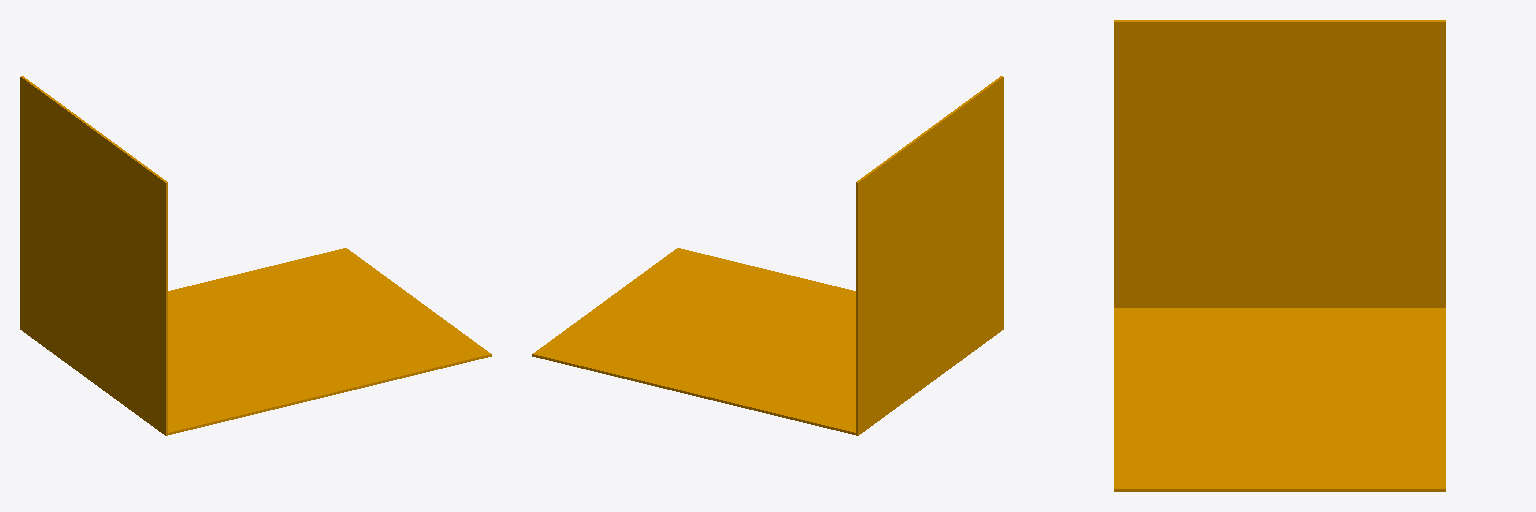
URDF robot description (tm5-900):
<?xml version="1.0" ?>
<!-- TM5-900 URDF Example -->
<robot name="tm5-900">

  <link name="platform">
    <visual>
      <geometry>
        <mesh filename="package://tm_description/meshes/tm5-900/visual/platform.obj"/>
      </geometry>
    </visual>
    <collision>
      <geometry>
        <mesh filename="package://tm_description/meshes/tm5-900/collision/platform.stl"/>
      </geometry>
    </collision>
  </link>

  <joint name="platform_to_link_0" type="fixed">
    <parent link="link_0"/>
    <child link="platform"/>
    <origin rpy="0.000000 -0.000000 0.000000" xyz="0.34222 0 -0.01"/>
  </joint>

  <link name="link_0">
    <visual>
      <geometry>
        <mesh filename="package://tm_description/meshes/tm5-900/visual/tm5-base.obj"/>
      </geometry>
    </visual>
    <collision>
      <geometry>
        <mesh filename="package://tm_description/meshes/tm5-900/collision/tm5-base_c.stl"/>
      </geometry>
    </collision>
  </link>

  <joint name="shoulder_1_joint" type="revolute">
    <parent link="link_0"/>
    <child link="link_1"/>
    <origin rpy="0.000000 -0.000000 0.000000" xyz="0.000000 0.000000 0.145200"/>
    <axis xyz="0 0 1"/>
    <limit effort="157" lower="-4.71238898038469" upper="4.71238898038469" velocity="3.141592653589793"/>
  </joint>

  <link name="link_1">
    <visual>
      <geometry>
        <mesh filename="package://tm_description/meshes/tm5-900/visual/tmr_400w_01.obj"/>
      </geometry>
    </visual>
    <collision>
      <geometry>
        <mesh filename="package://tm_description/meshes/tm5-900/collision/tmr_400w_01_c.stl"/>
      </geometry>
    </collision>
  </link>

  <joint name="shoulder_2_joint" type="revolute">
    <parent link="link_1"/>
    <child link="link_2"/>
    <origin rpy="-1.570796 -1.570796 0.000000" xyz="0.000000 0.000000 0.000000"/>
    <axis xyz="0 0 1"/>
    <limit effort="157" lower="-3.141592653589793" upper="3.141592653589793" velocity="3.141592653589793"/>
  </joint>

  <link name="link_2">
    <visual>
      <geometry>
        <mesh filename="package://tm_description/meshes/tm5-900/visual/tm5-900_arm1.obj"/>
      </geometry>
    </visual>
    <collision>
      <geometry>
        <mesh filename="package://tm_description/meshes/tm5-900/collision/tm5-900_arm1_c.stl"/>
      </geometry>
    </collision>
  </link>

  <joint name="elbow_joint" type="revolute">
    <parent link="link_2"/>
    <child link="link_3"/>
    <origin rpy="0.000000 -0.000000 0.000000" xyz="0.429000 0.000000 0.000000"/>
    <axis xyz="0 0 1"/>
    <limit effort="157" lower="-2.705260340591211" upper="2.705260340591211" velocity="3.141592653589793"/>
  </joint>

  <link name="link_3">
    <visual>
      <geometry>
        <mesh filename="package://tm_description/meshes/tm5-900/visual/tm5-900_arm2.obj"/>
      </geometry>
    </visual>
    <collision>
      <geometry>
        <mesh filename="package://tm_description/meshes/tm5-900/collision/tm5-900_arm2_c.stl"/>
      </geometry>
    </collision>
  </link>

  <joint name="wrist_1_joint" type="revolute">
    <parent link="link_3"/>
    <child link="link_4"/>
    <origin rpy="0.000000 -0.000000 1.570796" xyz="0.411500 0.000000 -0.122300"/>
    <axis xyz="0 0 1"/>
    <limit effort="43" lower="-3.141592653589793" upper="3.141592653589793" velocity="3.9269908169872414"/>
  </joint>

  <link name="link_4">
    <visual>
      <geometry>
        <mesh filename="package://tm_description/meshes/tm5-900/visual/tmr_100w_01.obj"/>
      </geometry>
    </visual>
    <collision>
      <geometry>
        <mesh filename="package://tm_description/meshes/tm5-900/collision/tmr_100w_01_c.stl"/>
      </geometry>
    </collision>
  </link>

  <joint name="wrist_2_joint" type="revolute">
    <parent link="link_4"/>
    <child link="link_5"/>
    <origin rpy="1.570796 -0.000000 0.000000" xyz="0.000000 -0.106000 0.000000"/>
    <axis xyz="0 0 1"/>
    <limit effort="43" lower="-3.141592653589793" upper="3.141592653589793" velocity="3.9269908169872414"/>
  </joint>

  <link name="link_5">
    <visual>
      <geometry>
        <mesh filename="package://tm_description/meshes/tm5-900/visual/tmr_100w_02.obj"/>
      </geometry>
    </visual>
    <collision>
      <geometry>
        <mesh filename="package://tm_description/meshes/tm5-900/collision/tmr_100w_02_c.stl"/>
      </geometry>
    </collision>
  </link>

  <joint name="wrist_3_joint" type="revolute">
    <parent link="link_5"/>
    <child link="link_6"/>
    <origin rpy="1.570796 -0.000000 0.000000" xyz="0.000000 -0.113150 0.000000"/>
    <axis xyz="0 0 1"/>
    <limit effort="43" lower="-4.71238898038469" upper="4.71238898038469" velocity="3.9269908169872414"/>
  </joint>

  <link name="link_6">
    <visual>
      <geometry>
        <mesh filename="package://tm_description/meshes/tm5-900/visual/tmr_ee.obj"/>
      </geometry>
    </visual>
    <collision>
      <geometry>
        <mesh filename="package://tm_description/meshes/tm5-900/collision/tmr_ee_c.stl"/>
      </geometry>
    </collision>
  </link>

  <joint name="flange_fixed_joint" type="fixed">
    <parent link="link_6"/>
    <child link="flange_link"/>
    <origin rpy="0.000000 0.000000 0.000000" xyz="0.000000 0.000000 0.000000"/>
  </joint>

  <link name="flange_link"/>

  <link name="base"/>
  <joint name="base_fixed_joint" type="fixed">
    <parent link="base"/>
    <child link="link_0"/>
    <origin rpy="0.000000 0.000000 0.000000" xyz="0.000000 0.000000 0.000000"/>
  </joint>

  <link name="tool0"/>
  <joint name="flange_link-tool0" type="fixed">
    <parent link="flange_link"/>
    <child link="tool0"/>
    <origin rpy="0.000000 0.000000 0.000000" xyz="0.000000 0.000000 0.000000"/>
  </joint>

</robot>

--- Facts derived from the render (not from the file) ---
3 views of the same robot in one strip: view 1: azimuth 30°, elevation 25°; view 2: azimuth 150°, elevation 25°; view 3: azimuth 270°, elevation 25° (orthographic).
Model tm5-900 with 11 links and 10 joints (6 revolute, 4 fixed), rooted at base, posed every joint at zero.
Visible links, largest first — view 1: platform; view 2: platform; view 3: platform.
Link boxes in pixels (box(x1,y1,x2,y2)): platform: box(20, 76, 491, 435); platform: box(532, 76, 1003, 435); platform: box(1114, 20, 1445, 491).
Bounding box of the posed robot: 1.36 × 1.05 × 1.01 m (x, y, z).
Meshes: 8 distinct files referenced, 1 mesh visuals loaded (1 OBJ); not drawn: 7 (reference not matched to a file when rendering).